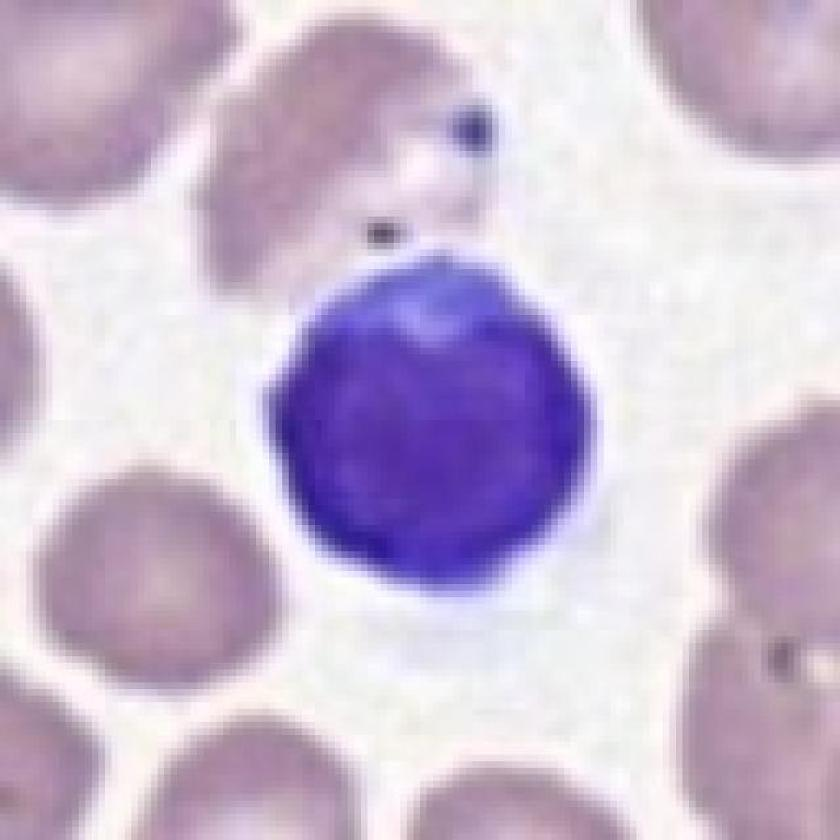lymphocyte: (255, 247, 621, 617)
